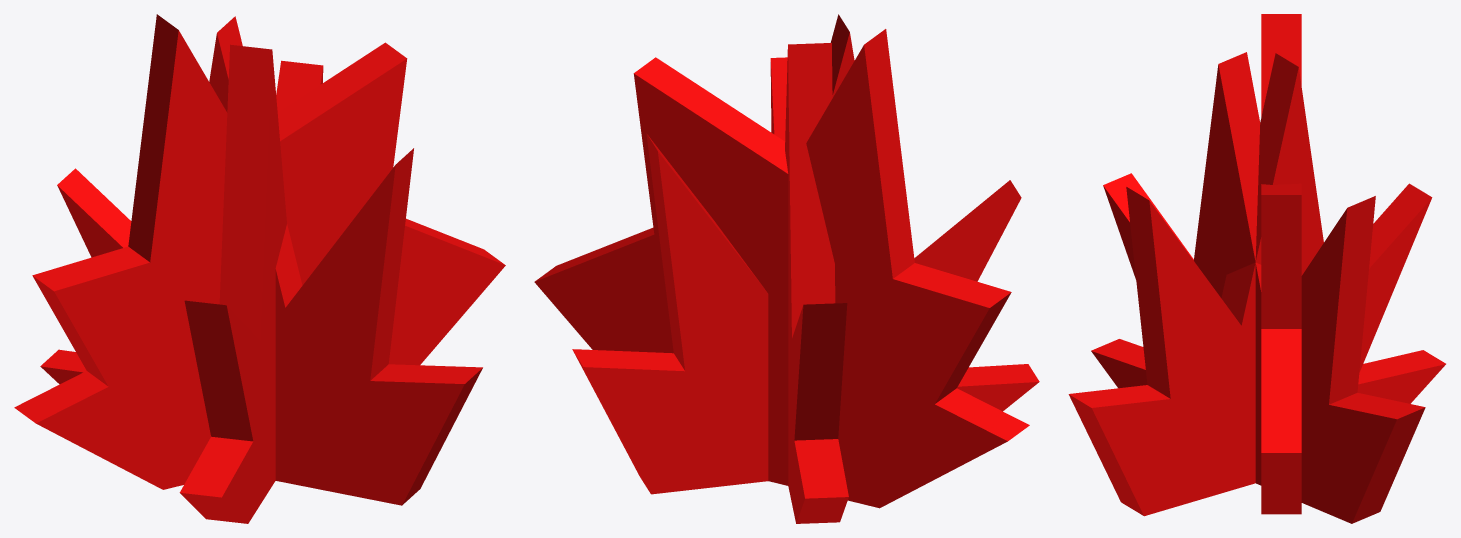
File: tuz.FBX
3 renders of one model, left to right at view 1: azimuth 30°, elevation 25°; view 2: azimuth 150°, elevation 25°; view 3: azimuth 270°, elevation 25°, orthographic. The views are drawn at different scales.
Visible parts, largest first — view 1: tuz; view 2: tuz; view 3: tuz.
Part boxes in pixels (bbox=[...]): tuz: bbox=[14, 14, 505, 523]; tuz: bbox=[534, 14, 1039, 523]; tuz: bbox=[1068, 14, 1445, 523].
Bounding box in the file's own units: 161 × 150 × 122.
